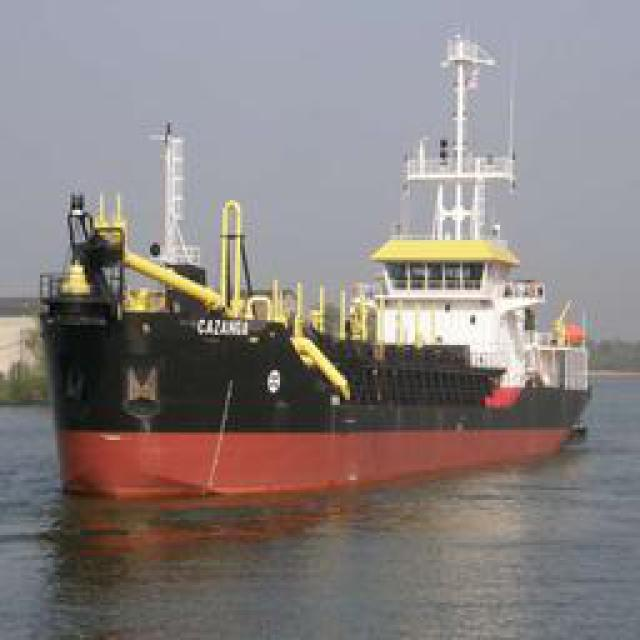Ship: (33, 127, 588, 495)
